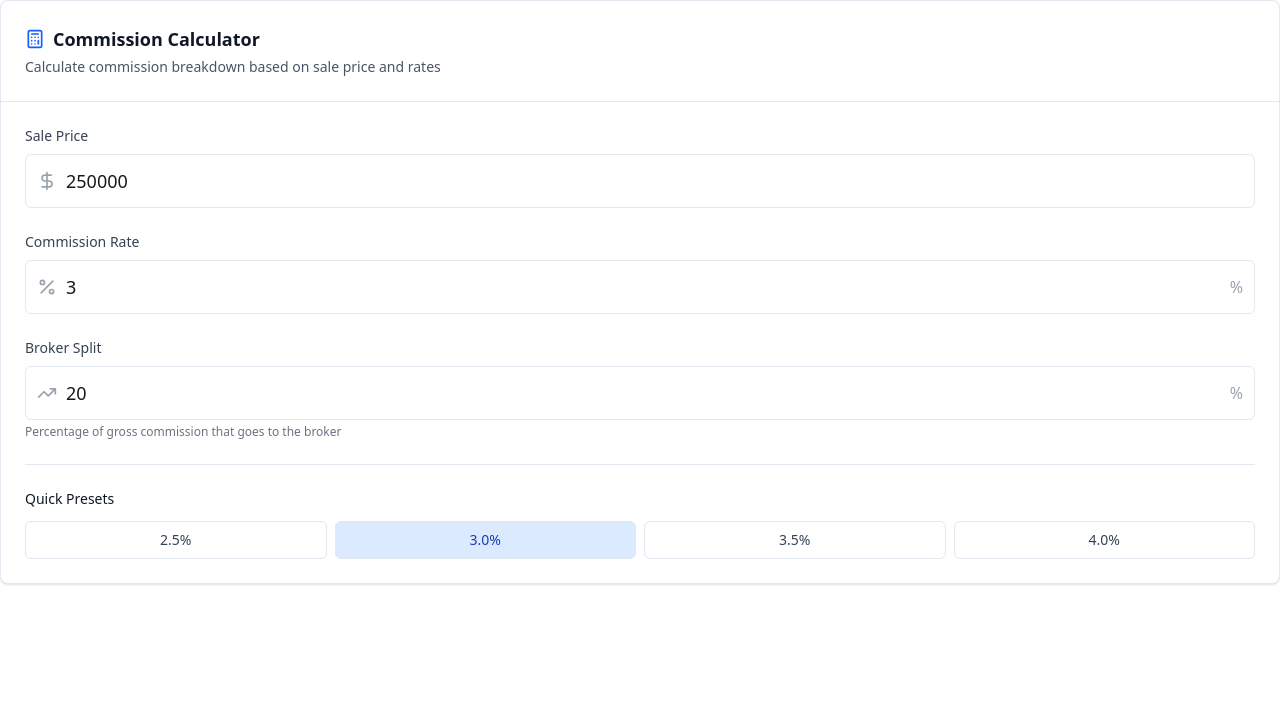
Test case: CommissionCalculator › should handle commission rate presets
Click the button "2.5%". click: (176,540)
box: [25, 521, 326, 559]
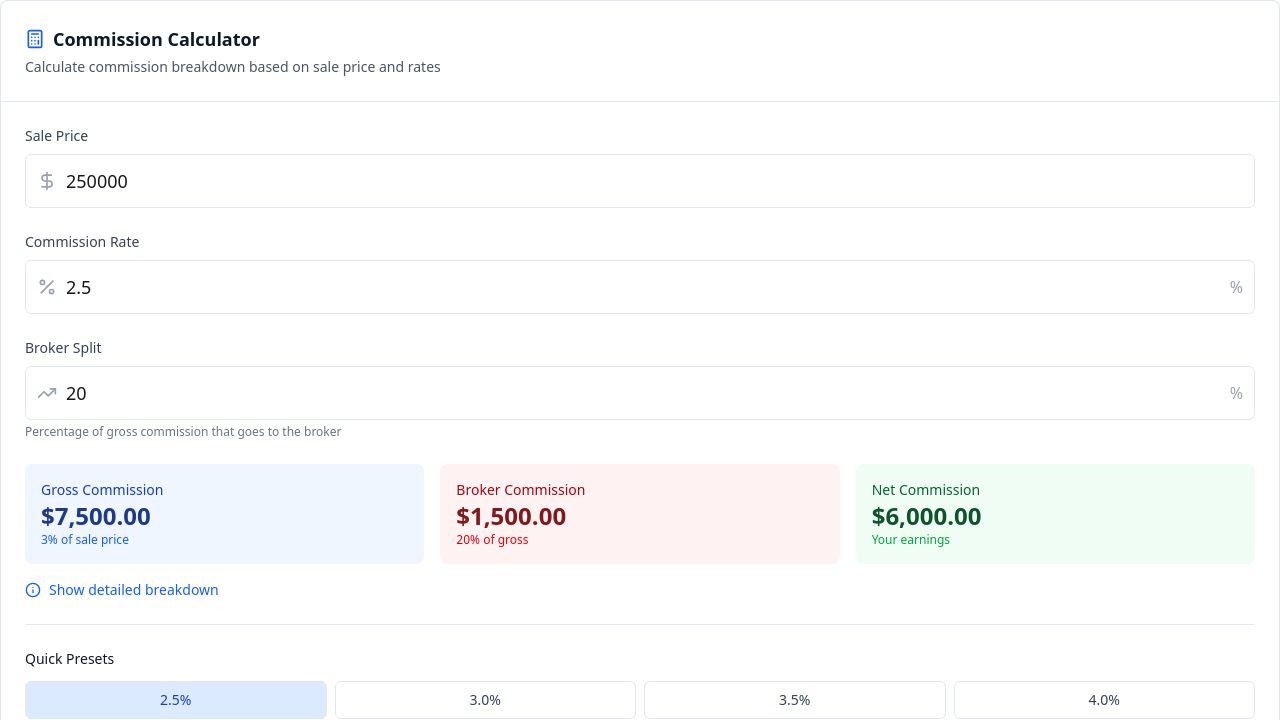
Now the number field labelled "Commission Rate" holds "2.5", box [25, 260, 1255, 314]
